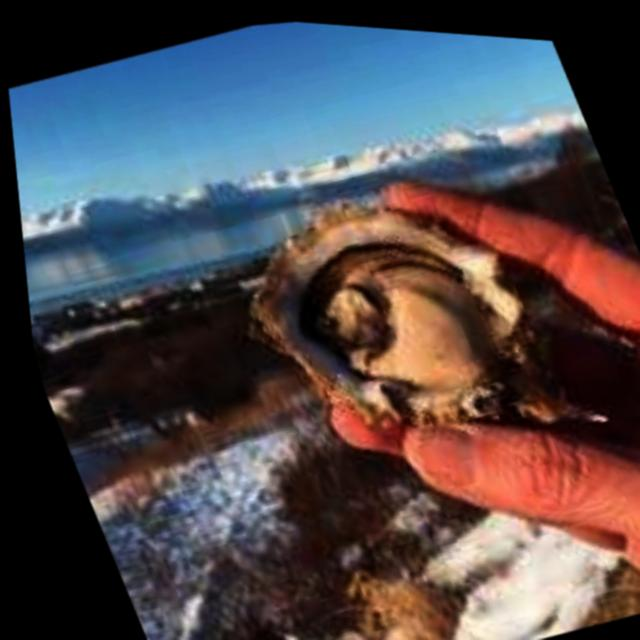Oyster-Open: (250, 209, 542, 447)
